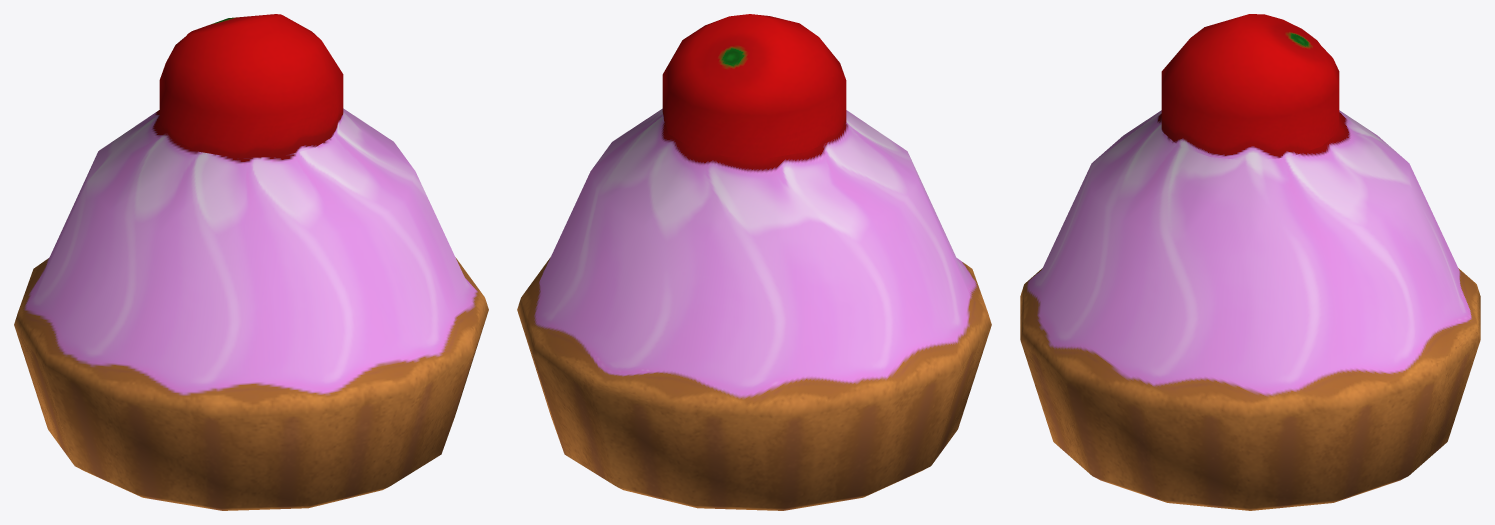
File: BuffetDesserts01_7.FBX
The picture shows the model from 3 angles, left to right: view 1: azimuth 30°, elevation 25°; view 2: azimuth 150°, elevation 25°; view 3: azimuth 270°, elevation 25°; orthographic projection.
Parts seen in each view (by area): view 1: BuffetDesserts01_7; view 2: BuffetDesserts01_7; view 3: BuffetDesserts01_7.
Boxes of the visible parts, bbox=[...] form: BuffetDesserts01_7: bbox=[14, 14, 488, 510]; BuffetDesserts01_7: bbox=[517, 14, 991, 510]; BuffetDesserts01_7: bbox=[1020, 14, 1480, 510].
Size of what is drawn, in the model's own units: 0.1175 by 0.1118 by 0.1145.
